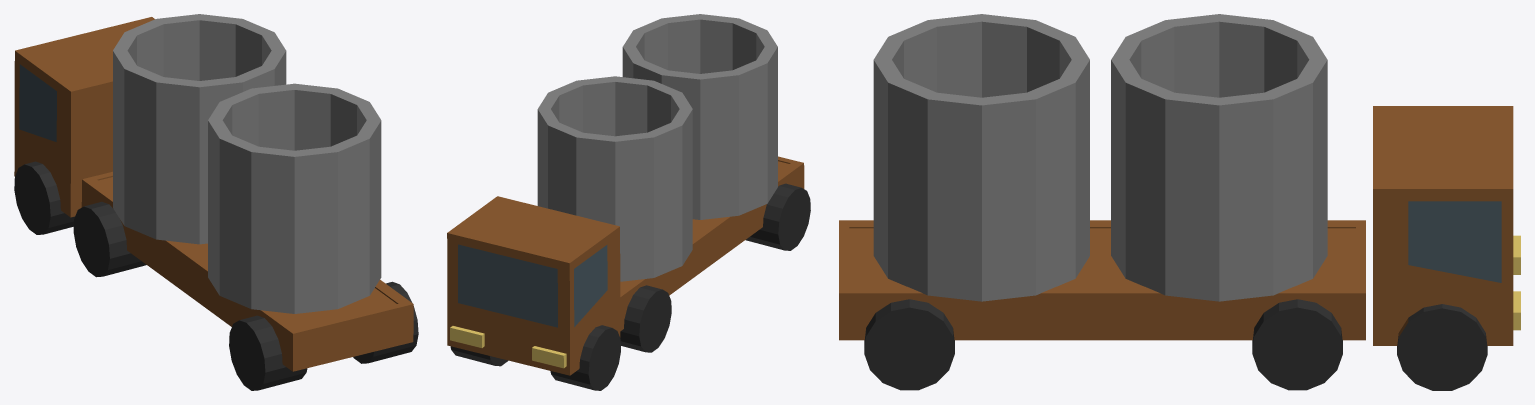
The model's file is LKW_with_pipes.glb.
3 views of the same model, side by side, from view 1: azimuth 30°, elevation 25°; view 2: azimuth 150°, elevation 25°; view 3: azimuth 270°, elevation 25° (orthographic). The views are drawn at different scales.
Visible parts, largest first — view 1: truck, pipe_2, pipe_1; view 2: truck, pipe_1, pipe_2; view 3: truck, pipe_1, pipe_2.
Part boxes in pixels (bbox=[...]): truck: bbox=[14, 17, 418, 390]; pipe_2: bbox=[208, 83, 381, 313]; pipe_1: bbox=[113, 14, 286, 244]; truck: bbox=[447, 156, 810, 390]; pipe_1: bbox=[537, 76, 692, 281]; pipe_2: bbox=[622, 14, 777, 219]; truck: bbox=[839, 106, 1520, 390]; pipe_1: bbox=[1111, 14, 1327, 301]; pipe_2: bbox=[873, 14, 1089, 301].
Bounding box in the file's own units: 2.09 × 2.9 × 6.3.
